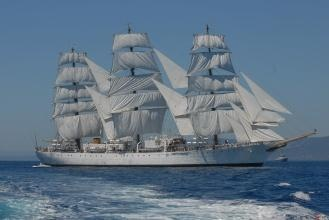fanchuan: (28, 16, 313, 167)
